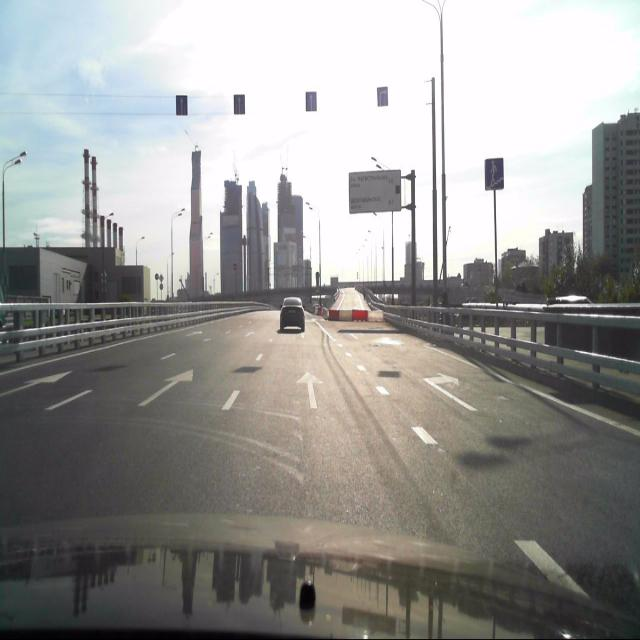road sign: (485, 158, 504, 190), (176, 94, 188, 116), (234, 93, 245, 115), (305, 91, 316, 110), (377, 86, 388, 105)
